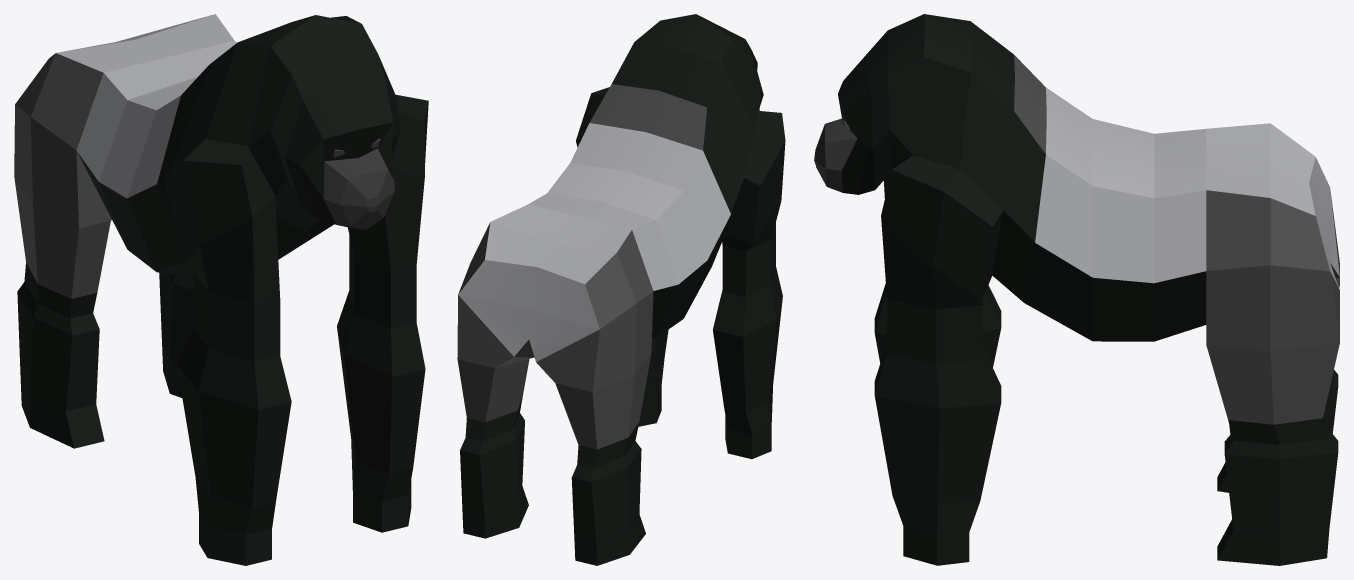
The model's file is fb12ecc4-3128-43c6-890d-d8f1a6ec5709.glb.
3 renders of one model, left to right at view 1: azimuth 30°, elevation 25°; view 2: azimuth 150°, elevation 25°; view 3: azimuth 270°, elevation 25°, orthographic. The views are drawn at different scales.
Visible parts, largest first — view 1: Geo_Gorilla; view 2: Geo_Gorilla; view 3: Geo_Gorilla.
Boxes of the visible parts, bbox=[...] form: Geo_Gorilla: bbox=[14, 14, 428, 565]; Geo_Gorilla: bbox=[457, 14, 785, 565]; Geo_Gorilla: bbox=[814, 14, 1339, 565].
Size of the model in its own units: 76.84 by 157 by 149.
Materials: 1 (1 with a texture image).
